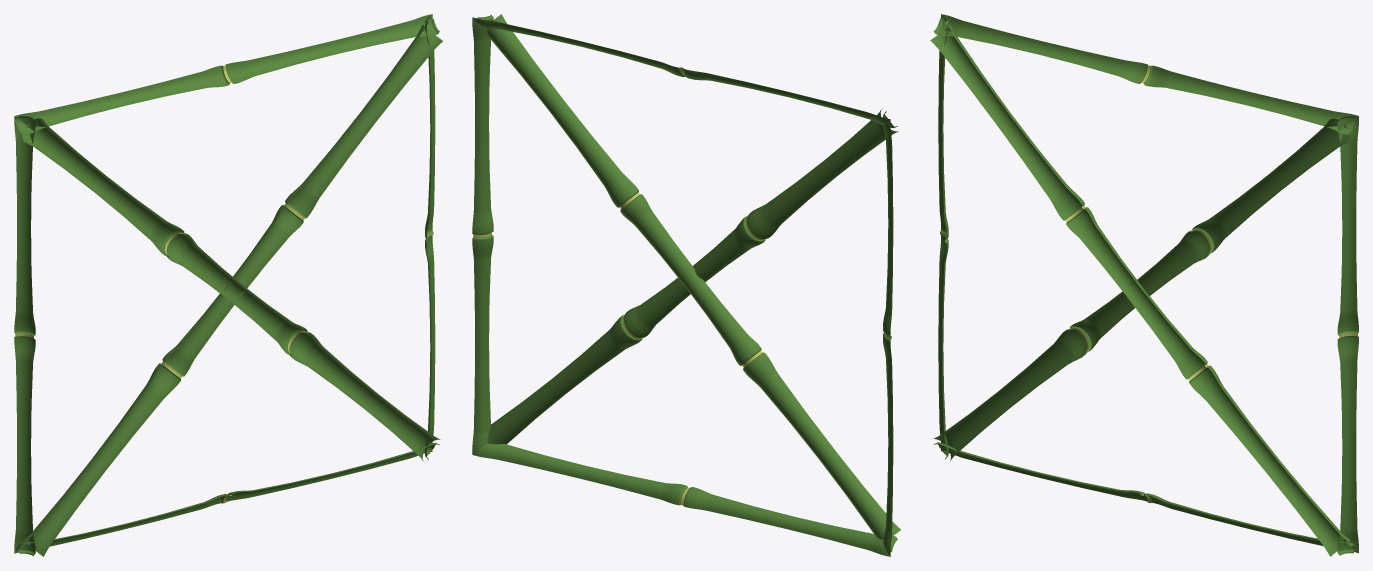
The model's file is Bamboo_Structure_No_Face.fbx.
The picture shows the model from 3 angles, left to right: view 1: azimuth 30°, elevation 25°; view 2: azimuth 150°, elevation 25°; view 3: azimuth 330°, elevation 25°; orthographic projection.
Parts seen in each view (by area): view 1: Bamboo_Structure_No_Face; view 2: Bamboo_Structure_No_Face; view 3: Bamboo_Structure_No_Face.
Part boxes in pixels (x1,y1,x2,y2): Bamboo_Structure_No_Face: (14, 14, 442, 556); Bamboo_Structure_No_Face: (472, 14, 900, 556); Bamboo_Structure_No_Face: (930, 14, 1358, 556).
Bounding box in the file's own units: 100 × 100 × 6.14.
